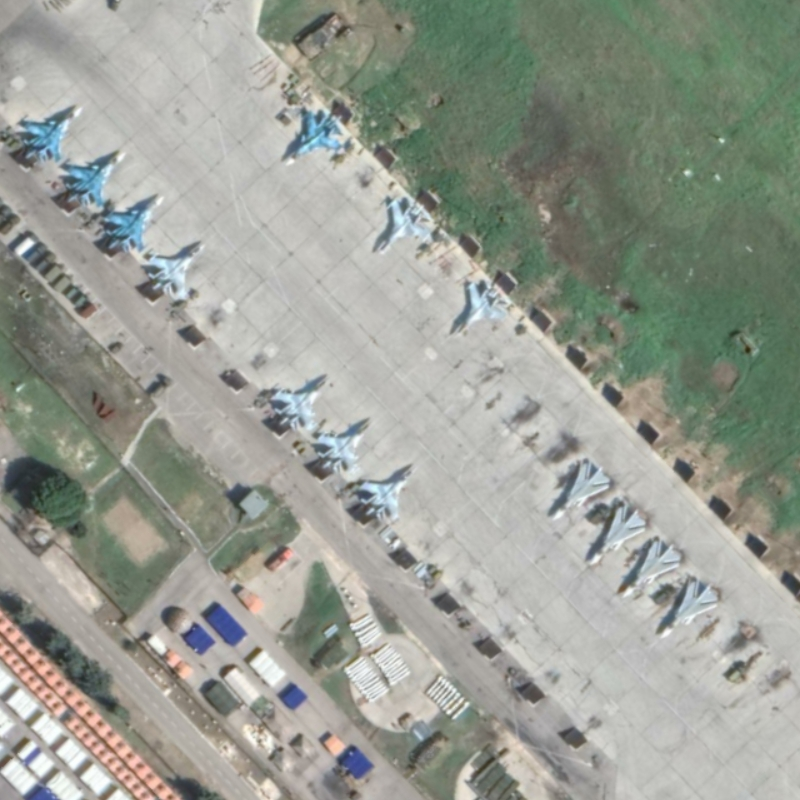A1: (146, 241, 207, 302), (377, 194, 436, 257), (271, 376, 329, 435), (314, 421, 372, 479), (358, 466, 414, 526), (455, 279, 510, 340)
A19: (21, 104, 85, 168), (282, 106, 345, 169), (64, 150, 129, 211), (101, 193, 165, 254)
A20: (618, 536, 683, 600), (587, 502, 649, 567), (659, 577, 721, 640), (551, 459, 611, 522)
